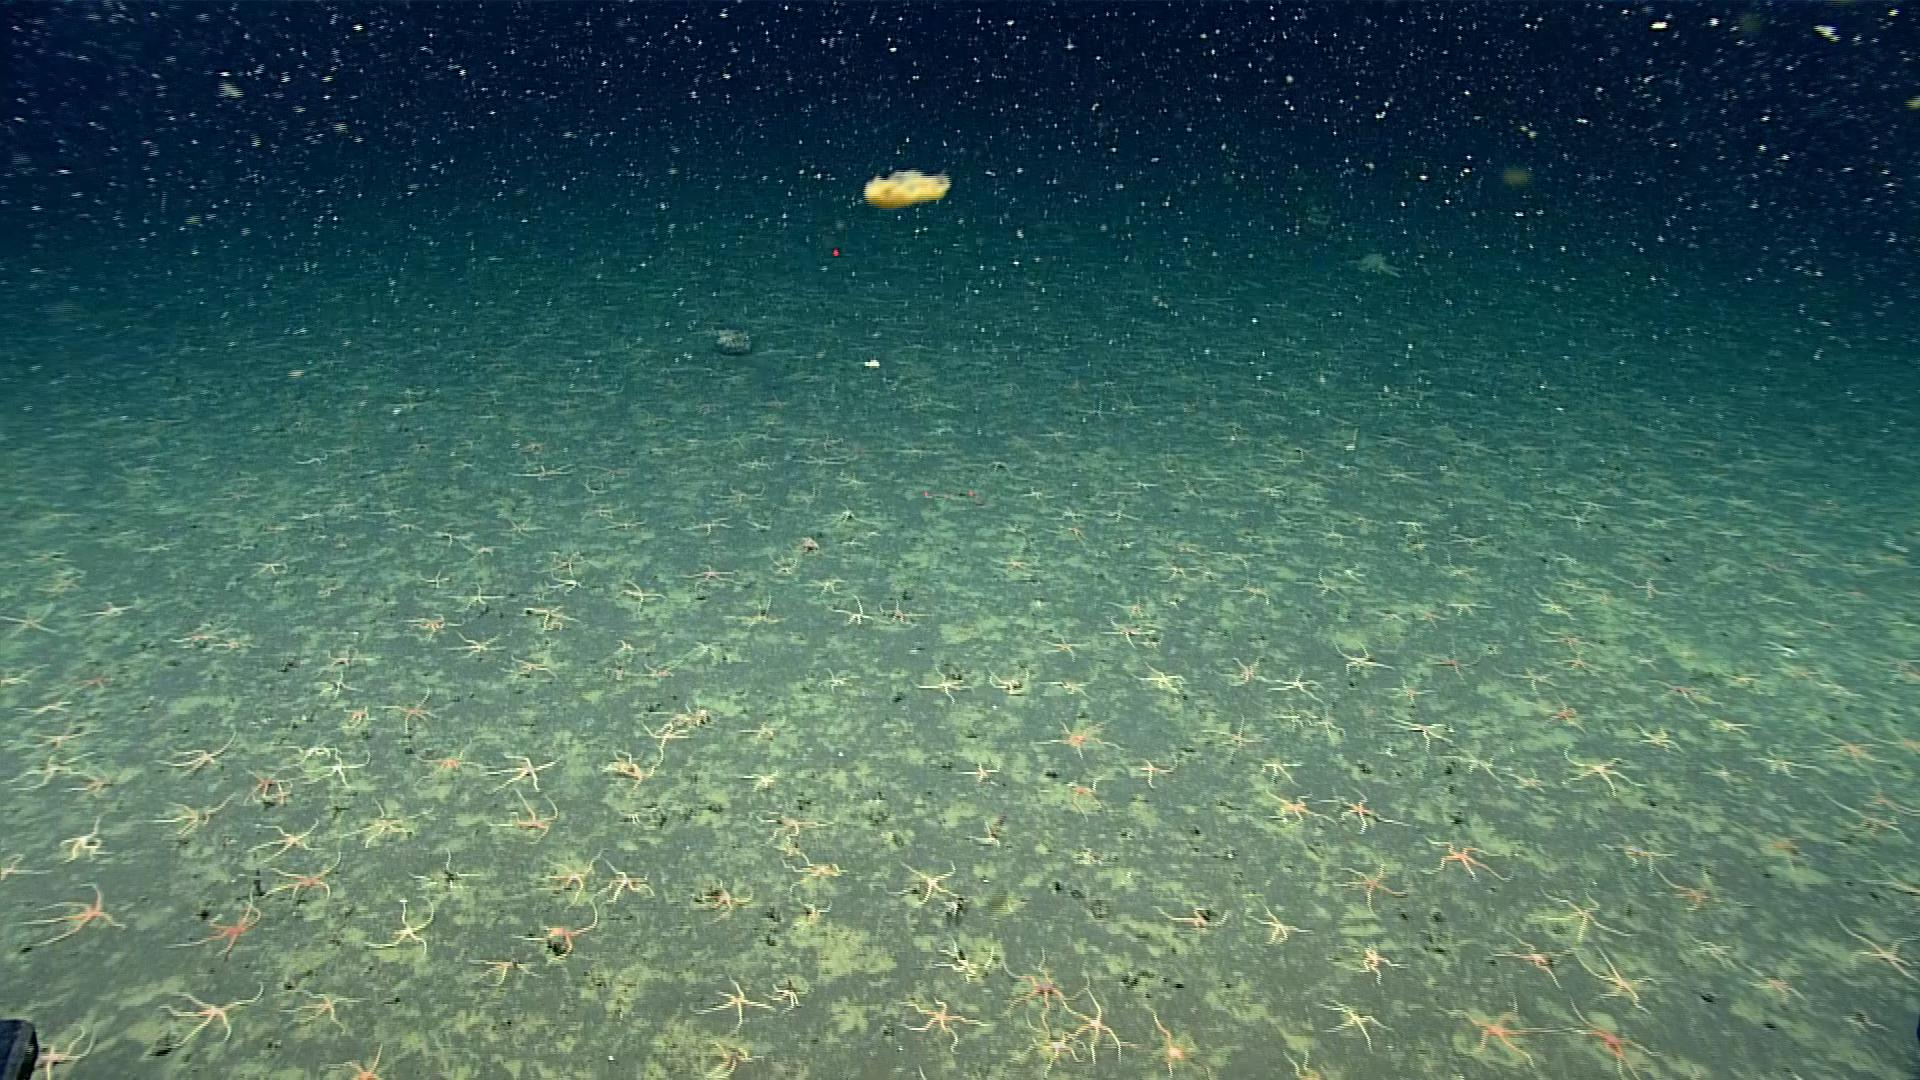brittle_sea_star: (1437, 993, 1563, 1071), (1560, 994, 1659, 1076), (12, 881, 128, 947), (157, 981, 265, 1047), (164, 890, 262, 961), (1000, 948, 1080, 1025), (1536, 889, 1638, 947), (1576, 947, 1658, 1013), (897, 994, 988, 1052), (1838, 920, 1919, 984), (1490, 928, 1576, 986), (144, 789, 237, 841), (1, 748, 102, 796), (336, 795, 427, 847), (509, 907, 596, 960), (1420, 832, 1510, 882), (690, 981, 777, 1033), (1065, 990, 1122, 1062), (1646, 866, 1735, 911), (1018, 1011, 1083, 1072), (1319, 998, 1393, 1050), (264, 856, 343, 903), (364, 901, 433, 955), (489, 787, 558, 841), (1559, 750, 1640, 795), (889, 855, 956, 909), (34, 1023, 99, 1079), (154, 735, 240, 775), (286, 988, 367, 1031), (1824, 795, 1899, 841), (1336, 865, 1406, 914), (406, 848, 481, 893), (1036, 717, 1117, 758), (538, 853, 600, 906), (376, 687, 443, 735), (1258, 786, 1329, 829), (750, 808, 833, 845), (247, 820, 319, 862), (1143, 1010, 1192, 1072), (1327, 790, 1400, 831), (404, 740, 479, 779), (485, 750, 559, 790), (924, 939, 985, 985), (315, 1040, 386, 1079), (1381, 712, 1451, 750), (1203, 713, 1267, 754), (58, 814, 113, 861), (781, 853, 849, 891), (1249, 905, 1312, 945), (465, 951, 538, 986), (595, 862, 654, 905), (1346, 940, 1406, 982), (1859, 860, 1919, 902), (909, 663, 968, 704), (637, 719, 692, 762), (446, 579, 512, 615), (1743, 746, 1816, 778), (597, 746, 657, 785), (687, 885, 750, 920), (675, 559, 738, 595), (1338, 642, 1399, 679), (1822, 729, 1878, 769), (306, 752, 369, 786), (725, 596, 786, 630), (1760, 831, 1811, 872), (0, 600, 55, 637), (1644, 678, 1706, 711), (243, 767, 294, 807), (1607, 837, 1667, 872), (1499, 663, 1569, 692), (400, 609, 463, 641), (1159, 901, 1225, 931), (1747, 967, 1801, 1004), (1208, 655, 1276, 684), (1424, 647, 1482, 682), (24, 724, 102, 749), (444, 629, 505, 661), (1443, 746, 1501, 779), (1865, 785, 1917, 820), (611, 579, 667, 612), (703, 1039, 754, 1075), (502, 650, 554, 686), (1131, 662, 1187, 695), (1540, 695, 1586, 732), (655, 703, 716, 729), (1273, 670, 1325, 700), (517, 605, 574, 633), (1689, 936, 1737, 969), (984, 551, 1043, 578), (1633, 727, 1681, 758), (1768, 663, 1829, 688), (1062, 775, 1102, 812), (0, 851, 51, 880), (874, 596, 926, 625), (311, 671, 360, 702), (82, 599, 135, 626), (1106, 618, 1153, 650), (1311, 520, 1364, 547), (545, 570, 595, 599), (1142, 559, 1203, 583), (1548, 625, 1592, 658), (832, 595, 874, 628), (1039, 518, 1089, 546), (1307, 572, 1350, 604), (11, 696, 75, 717), (1236, 576, 1276, 609), (61, 766, 113, 791), (769, 978, 810, 1010), (984, 666, 1027, 695), (1629, 575, 1676, 601), (1039, 675, 1095, 698), (1133, 757, 1174, 787), (505, 463, 571, 481), (1308, 712, 1346, 744), (1379, 683, 1432, 705), (1042, 634, 1085, 661), (1510, 769, 1551, 796), (166, 632, 211, 657), (903, 1050, 940, 1079), (636, 662, 680, 686), (284, 742, 334, 764), (309, 649, 359, 670), (1255, 757, 1298, 782), (1284, 1048, 1319, 1079), (1440, 560, 1486, 583), (1329, 556, 1366, 584), (816, 666, 855, 692), (955, 762, 1002, 783), (796, 899, 832, 927), (738, 769, 782, 791), (452, 542, 505, 560), (705, 485, 762, 502), (1713, 667, 1754, 691), (1097, 504, 1137, 527), (1702, 717, 1753, 736), (1888, 729, 1919, 760), (1124, 472, 1164, 495), (808, 574, 851, 595), (1697, 762, 1738, 783), (823, 502, 861, 525), (1564, 653, 1602, 675), (1415, 608, 1451, 632), (1124, 599, 1159, 622), (1890, 654, 1919, 683), (340, 702, 372, 728), (1746, 588, 1785, 609), (75, 669, 115, 690), (1447, 596, 1494, 613), (790, 529, 824, 553), (1455, 533, 1498, 551), (1279, 707, 1309, 733), (212, 634, 249, 655), (769, 554, 799, 579), (131, 538, 178, 554), (835, 468, 874, 487), (744, 721, 778, 742), (1249, 480, 1291, 497), (975, 824, 1001, 851), (546, 551, 579, 572), (680, 518, 724, 534), (1630, 649, 1660, 671), (249, 560, 289, 578), (415, 527, 462, 542), (1560, 512, 1598, 529), (615, 638, 642, 659), (421, 570, 448, 588), (603, 666, 628, 684), (584, 504, 616, 517), (1023, 487, 1046, 501), (769, 1077, 862, 1079)
